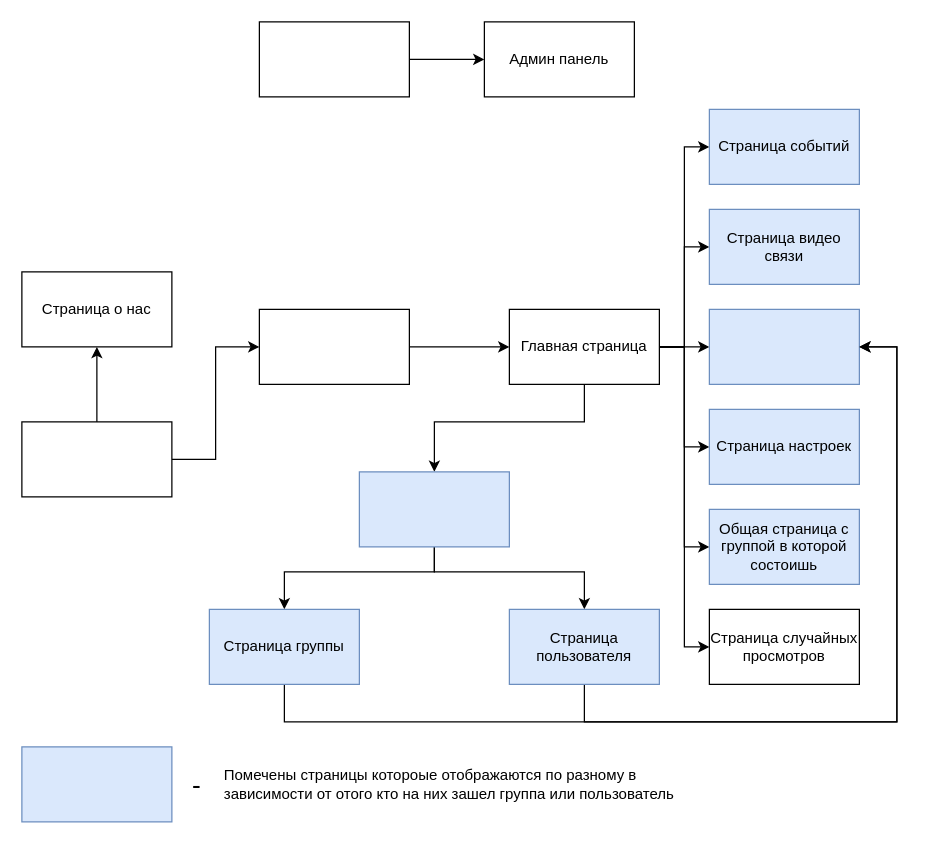
This 929x844 diagram has some shape labels left out. The shapes that lost their labels are listed below. From the top down, each one's box as (x1, y1, x2, y2) in pixels, then its label:
(258, 21, 409, 97): Войти
(258, 308, 409, 384): Войти / Регистрация
(708, 308, 859, 384): Страница с сообщениями
(21, 421, 172, 497): Страница предпросмотра
(358, 471, 509, 547): Страница поиска
